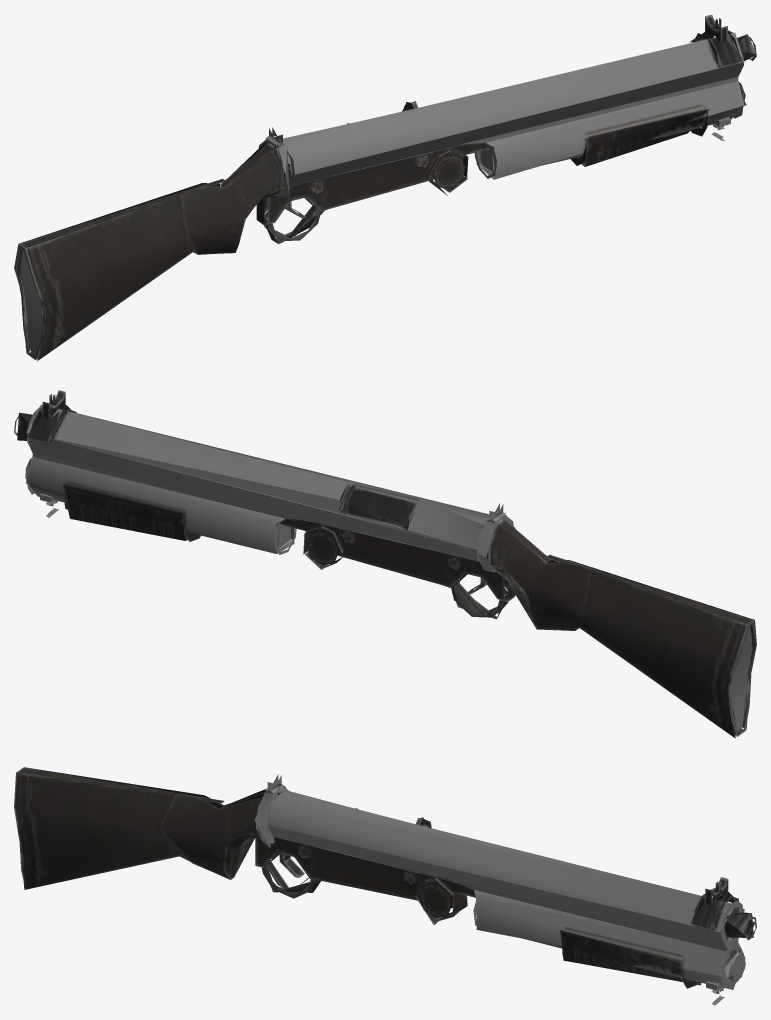
File: shotgun_low.glb
3 renders of one model, top to bottom at view 1: azimuth 30°, elevation 25°; view 2: azimuth 150°, elevation 25°; view 3: azimuth 330°, elevation 25°, orthographic.
Parts seen in each view (by area): view 1: body, pump; view 2: body, pump; view 3: body, pump.
Boxes of the visible parts, x1,y1,x2,y2 form: body: [14, 14, 756, 361]; pump: [462, 77, 744, 179]; body: [14, 390, 756, 738]; pump: [26, 453, 310, 553]; body: [14, 767, 756, 1005]; pump: [449, 879, 738, 989].
Size of the model in its own units: 1 by 0.2248 by 0.0785.
Materials: 1 (1 with a texture image).
